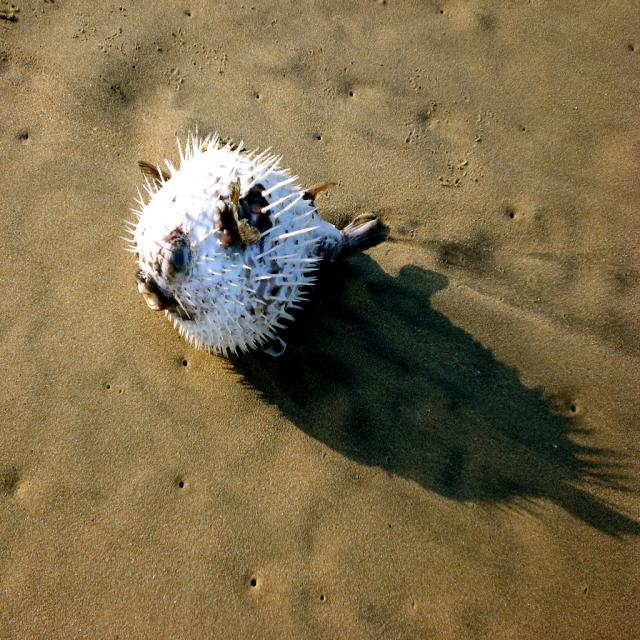Fish: (101, 108, 390, 386)
